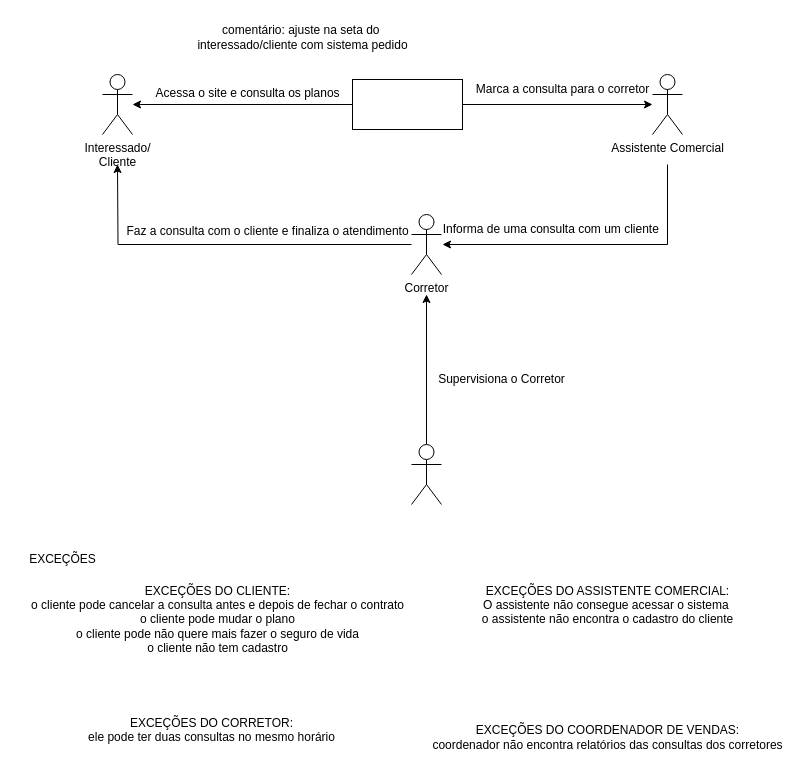
Some shapes in this 809 by 784 pixel diagram are drawn without their labels. Here are the shapes that lost their labels. From the top down, the centre of each, then its label:
At [407,104]: "Sistema de Pedidos".
At [426,474]: "Coordenador de Vendas".
